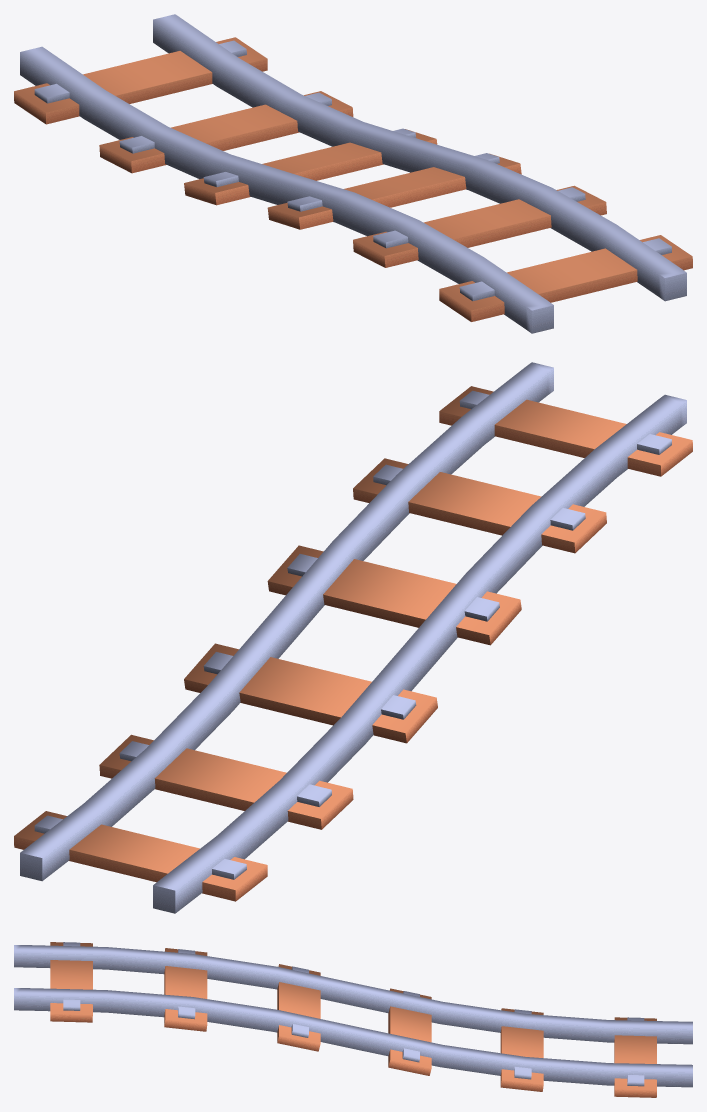
The model's file is railroad-straight-hill-complete-half.glb.
The picture shows the model from 3 angles, top to bottom: view 1: azimuth 30°, elevation 25°; view 2: azimuth 150°, elevation 25°; view 3: azimuth 270°, elevation 25°; orthographic projection. The views are drawn at different scales.
Parts seen in each view (by area): view 1: railroad-straight-hill-complete-half; view 2: railroad-straight-hill-complete-half; view 3: railroad-straight-hill-complete-half.
Boxes of the visible parts, bbox=[...] form: railroad-straight-hill-complete-half: bbox=[14, 14, 692, 333]; railroad-straight-hill-complete-half: bbox=[14, 362, 692, 913]; railroad-straight-hill-complete-half: bbox=[14, 942, 692, 1097].
Bounding box in the file's own units: 1 × 0.6 × 4.
Materials: 1 (1 with a texture image).
